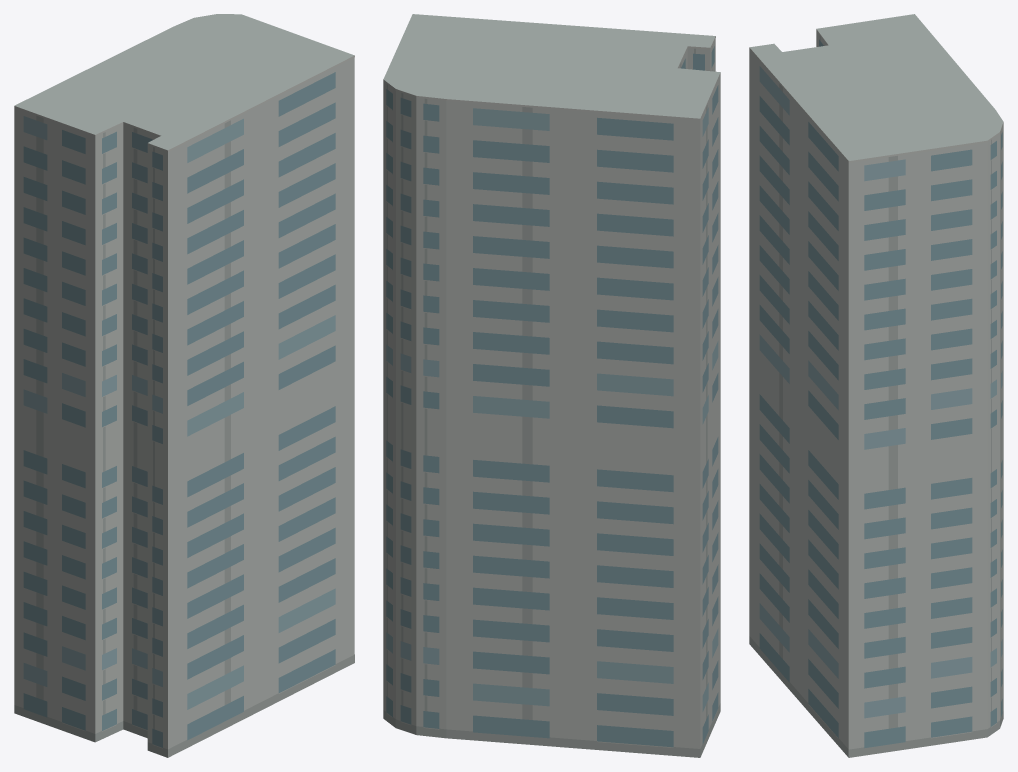
The model's file is survey-upis-32912082.glb.
3 views of the same model, side by side, from view 1: azimuth 30°, elevation 25°; view 2: azimuth 150°, elevation 25°; view 3: azimuth 270°, elevation 25° (orthographic). The views are drawn at different scales.
Visible parts, largest first — view 1: survey-upis-32912082.tmp; view 2: survey-upis-32912082.tmp; view 3: survey-upis-32912082.tmp.
Boxes of the visible parts, x1,y1,x2,y2 form: survey-upis-32912082.tmp: [14, 14, 354, 757]; survey-upis-32912082.tmp: [383, 14, 720, 757]; survey-upis-32912082.tmp: [749, 14, 1003, 757].
Size of the model in its own units: 42.53 by 80.4 by 31.05.
